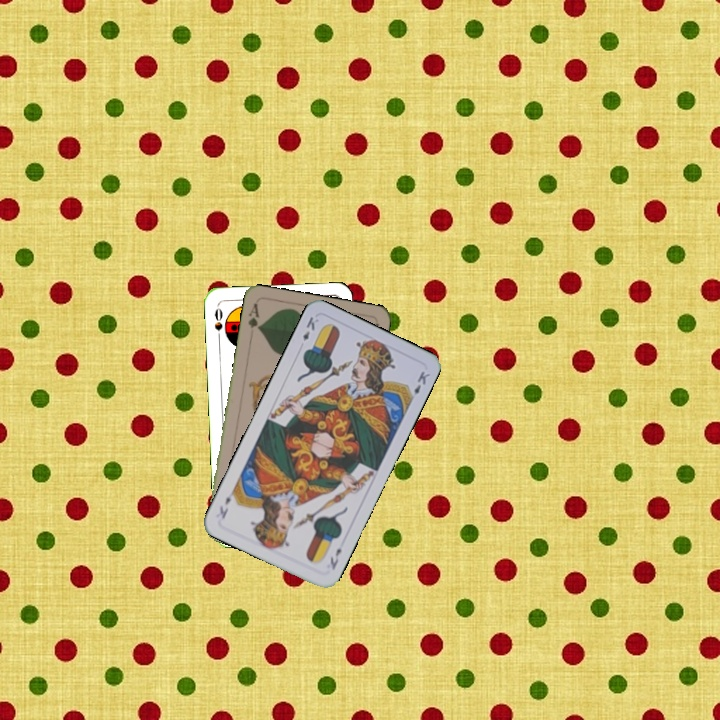EK: (299, 313, 321, 344), (326, 544, 344, 572)
GA: (244, 299, 263, 333)
SO: (211, 302, 225, 343)
